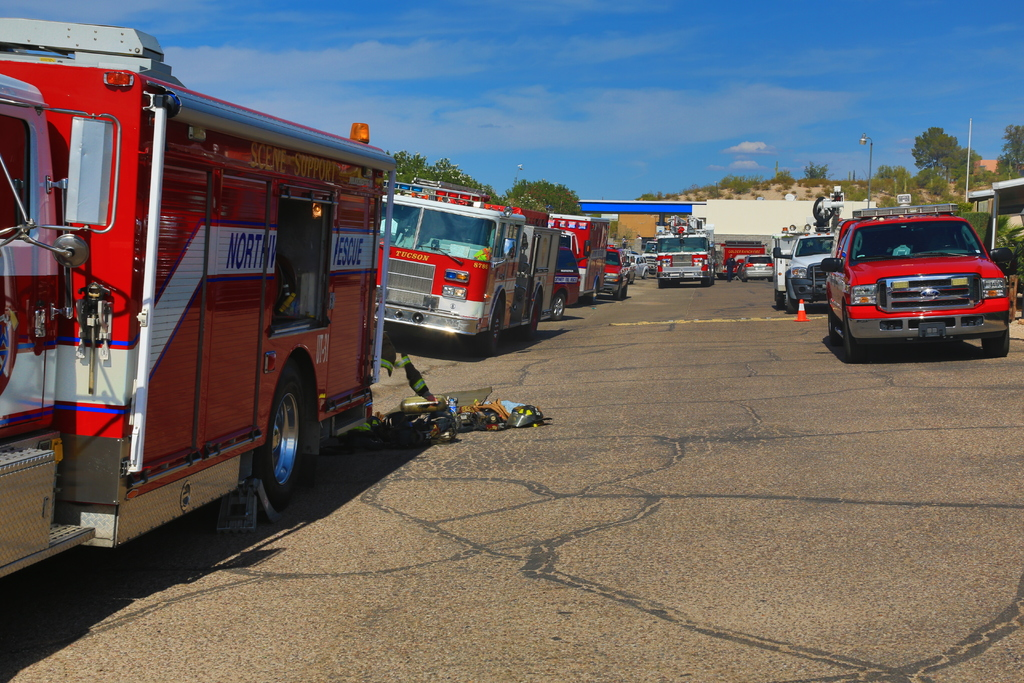car: (814, 203, 1017, 374), (776, 218, 842, 305), (738, 248, 777, 284)
truck: (1, 11, 407, 624), (362, 179, 570, 354), (650, 212, 730, 296)
